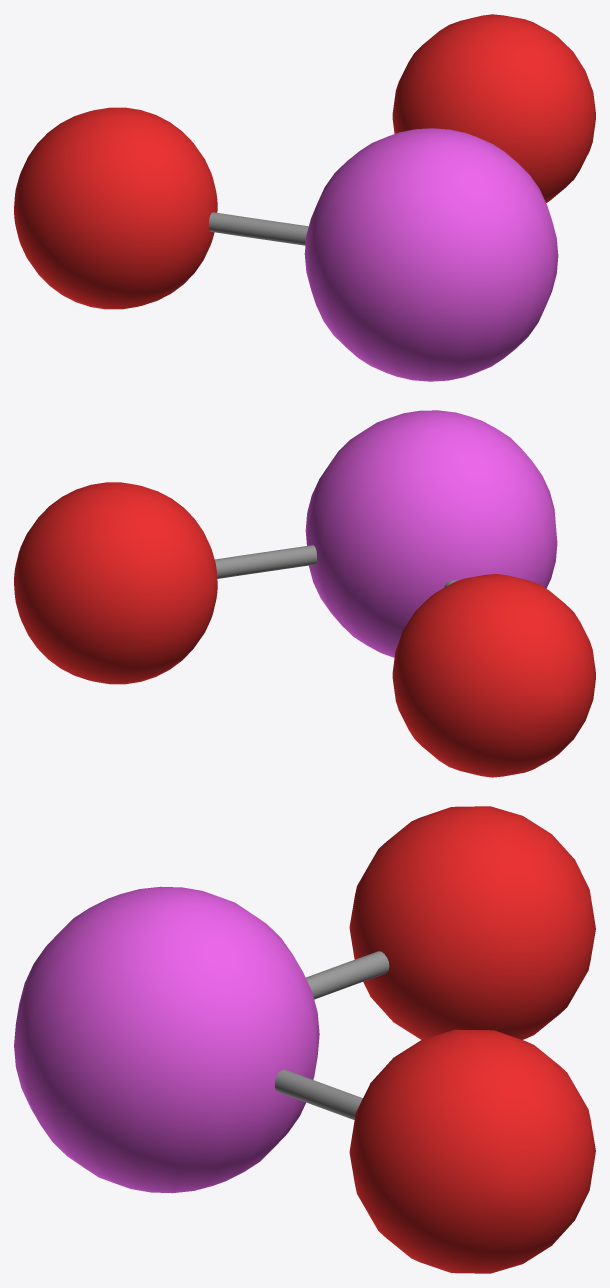
Rendered from LiO2.fbx.
3 views of the same model, one above another, from view 1: azimuth 30°, elevation 25°; view 2: azimuth 150°, elevation 25°; view 3: azimuth 270°, elevation 25° (orthographic). The views are drawn at different scales.
Visible parts, largest first — view 1: LiO2; view 2: LiO2; view 3: LiO2.
Boxes of the visible parts, box(x1,y1,x2,y2) form: LiO2: box(14, 14, 595, 381); LiO2: box(14, 410, 595, 777); LiO2: box(14, 806, 595, 1273).
Bounding box in the file's own units: 5.81 × 2.3 × 4.36.
